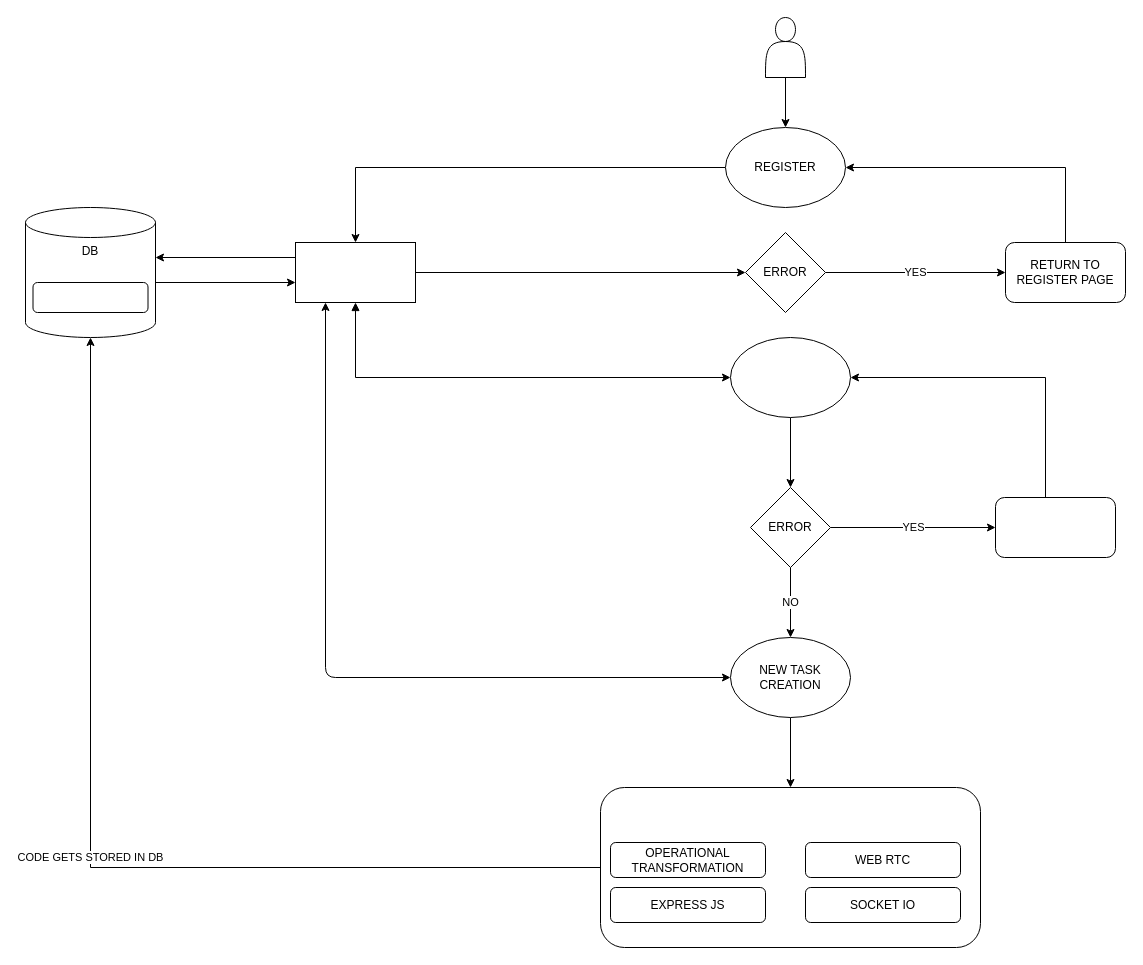
Some shapes in this 1143 by 965 pixel diagram are drawn without their labels. Here are the shapes that lost their labels. From the top down, the box of each, then its label:
(294, 242, 416, 302): SERVER
(32, 282, 148, 312): MONGO DB
(730, 336, 850, 418): LOGIN / SINGLE SIGN ON
(994, 496, 1116, 558): RETURN TO LOGIN PAGE
(600, 786, 980, 948): COLLABORATIVE ENVIRONMENT WITH EDITOR, VIDEO/AUDIO CALL AND CHATBOX
